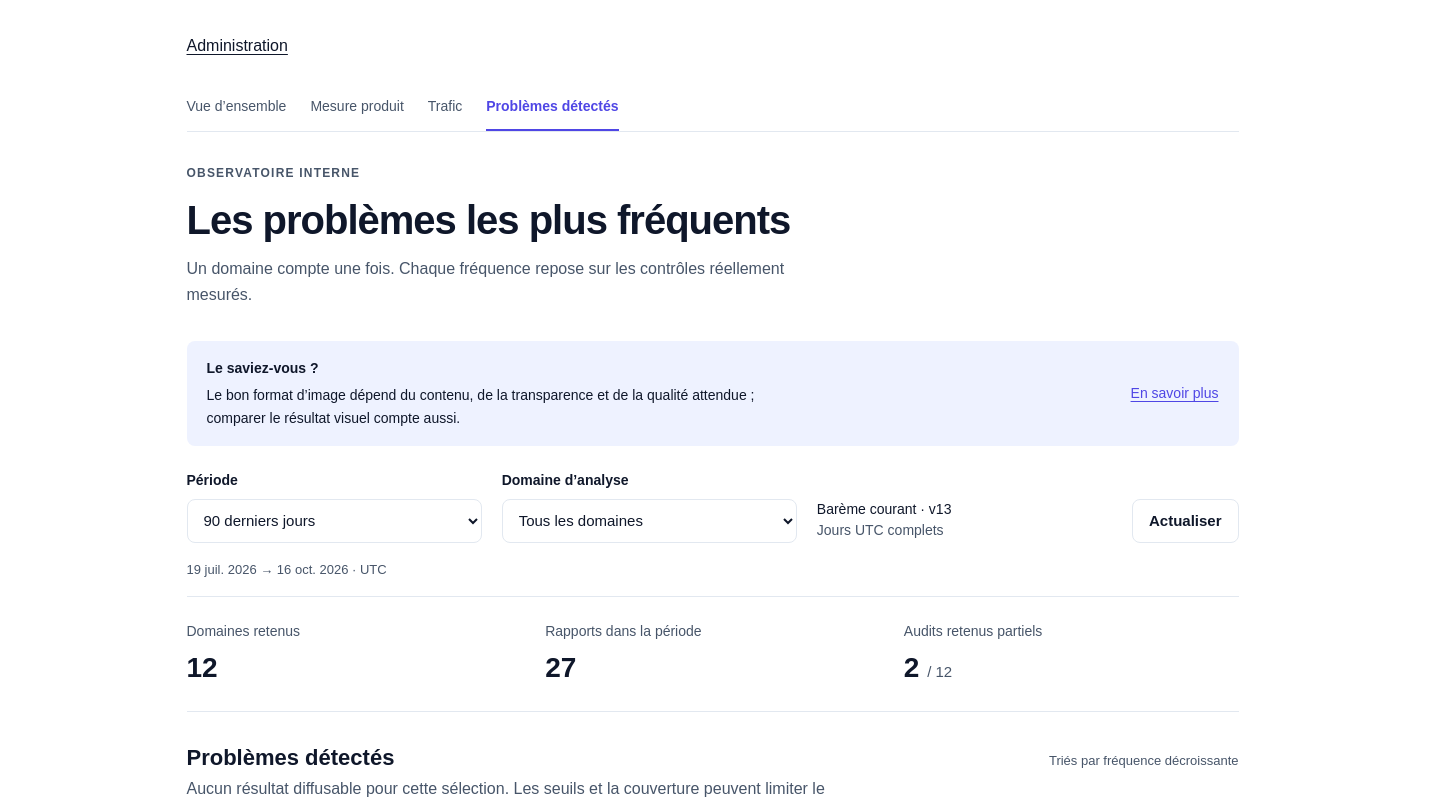
it: distinguishes no reports from no publishable findings
Click the button "Actualiser".
click(1185, 521)  # box [1132, 499, 1238, 543]
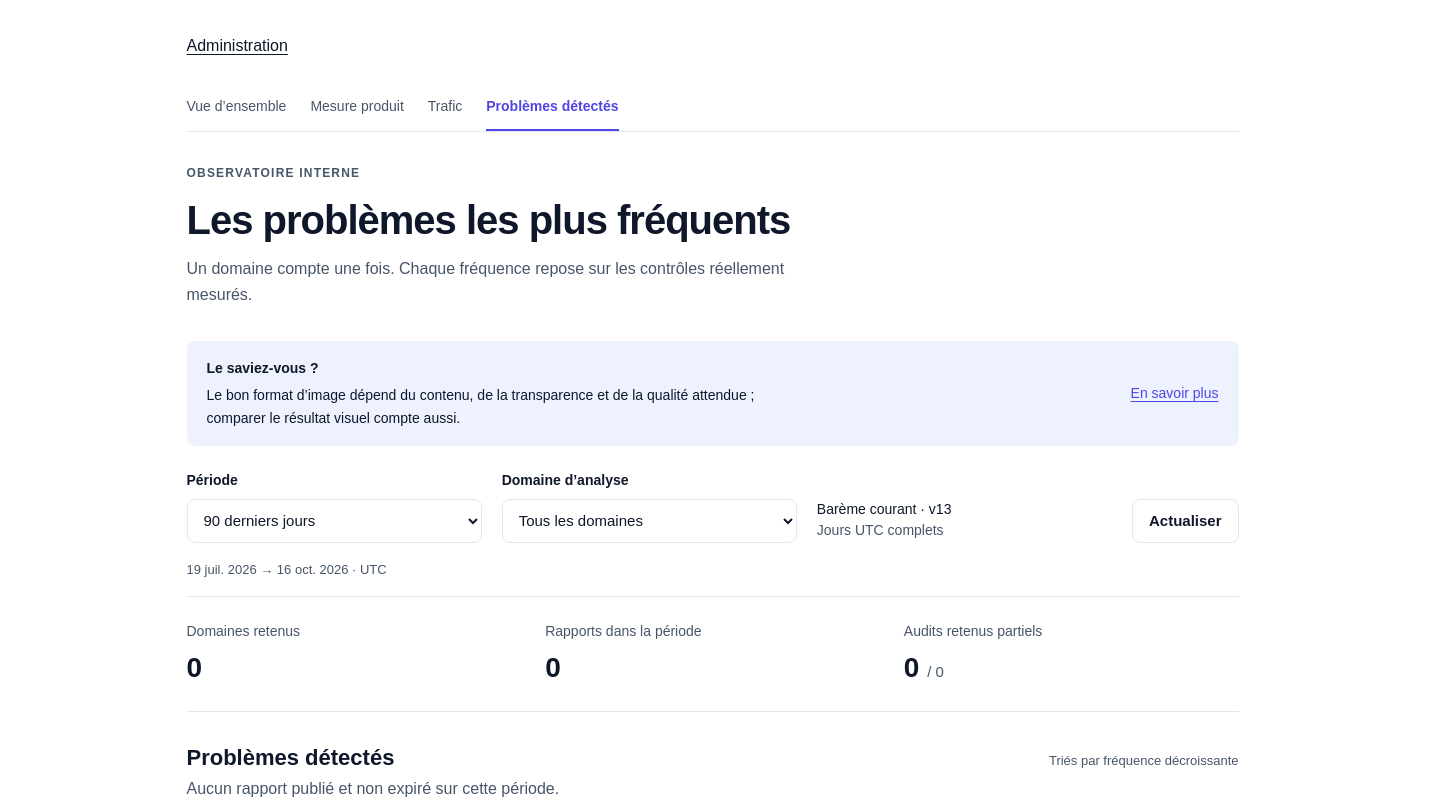
Check: the text "Aucun rapport publié et non expiré sur cette période." is shown, box [186, 780, 559, 797]
